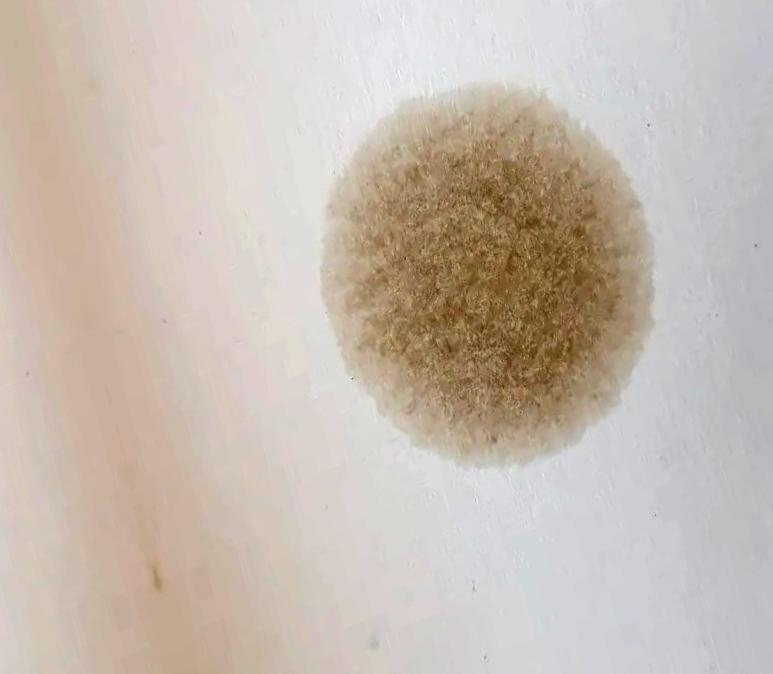stain: (320, 83, 663, 478)
